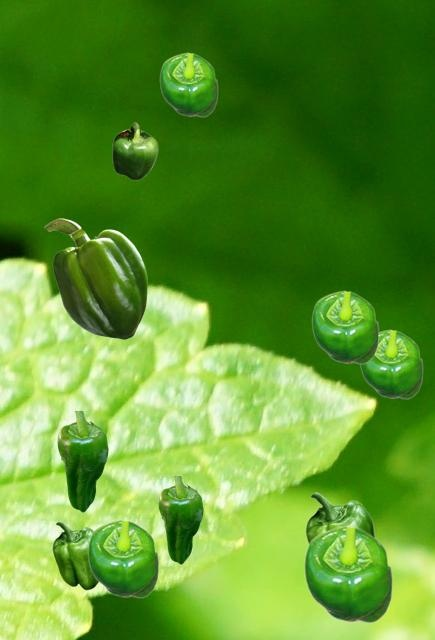bell_pepper: (44, 218, 146, 338), (303, 525, 392, 622), (87, 519, 158, 597), (57, 411, 107, 511), (311, 290, 378, 363), (359, 329, 422, 398), (158, 476, 202, 563), (159, 52, 217, 116), (305, 492, 376, 543), (52, 521, 98, 589), (112, 122, 157, 179)
